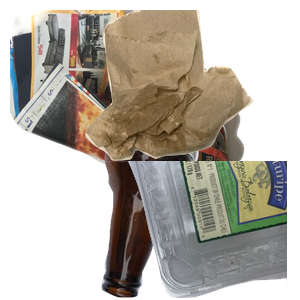glass: (99, 140, 300, 300)
paper: (10, 10, 250, 190)
plastic: (60, 161, 300, 300)
trash: (83, 10, 300, 163)
